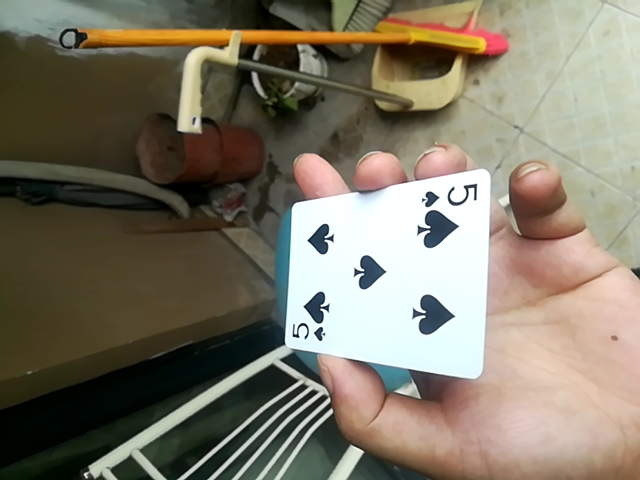ht 5: (274, 166, 499, 381)
